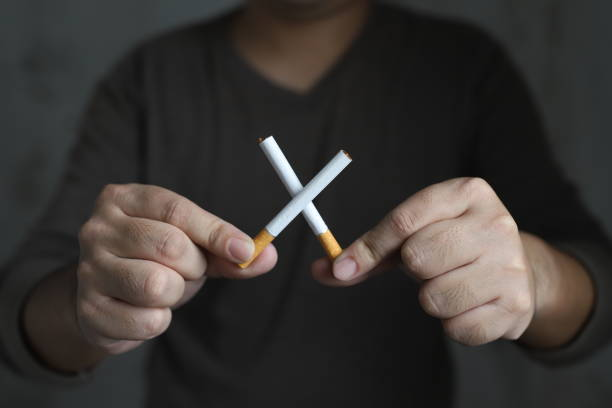cigarette: (237, 147, 353, 269), (259, 136, 343, 261)
